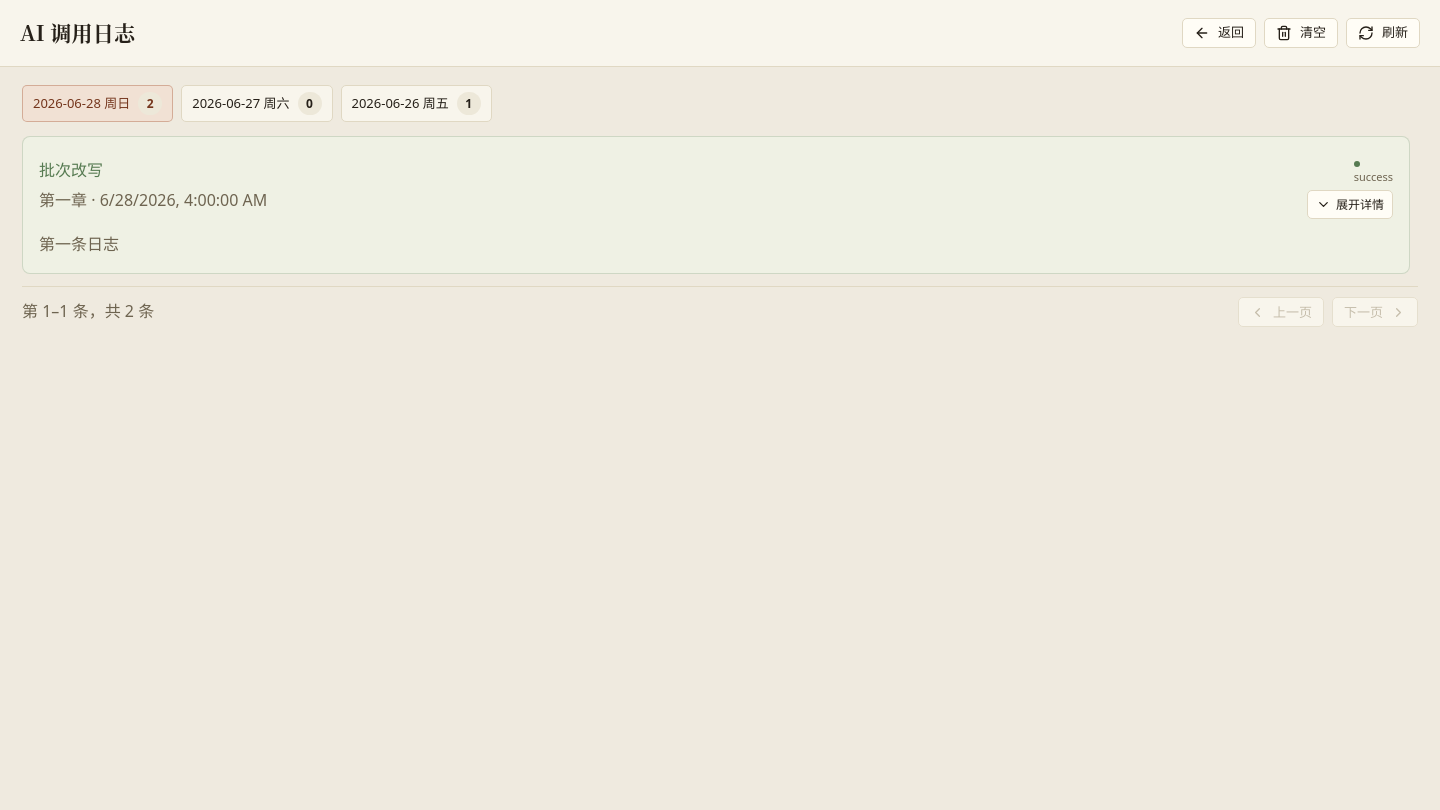
LogsPage › keeps large log details collapsed until requested
Expected: the text "原始响应" is not shown
Click the button "展开详情" at [1350, 204], box 1307,190 -> 1393,219
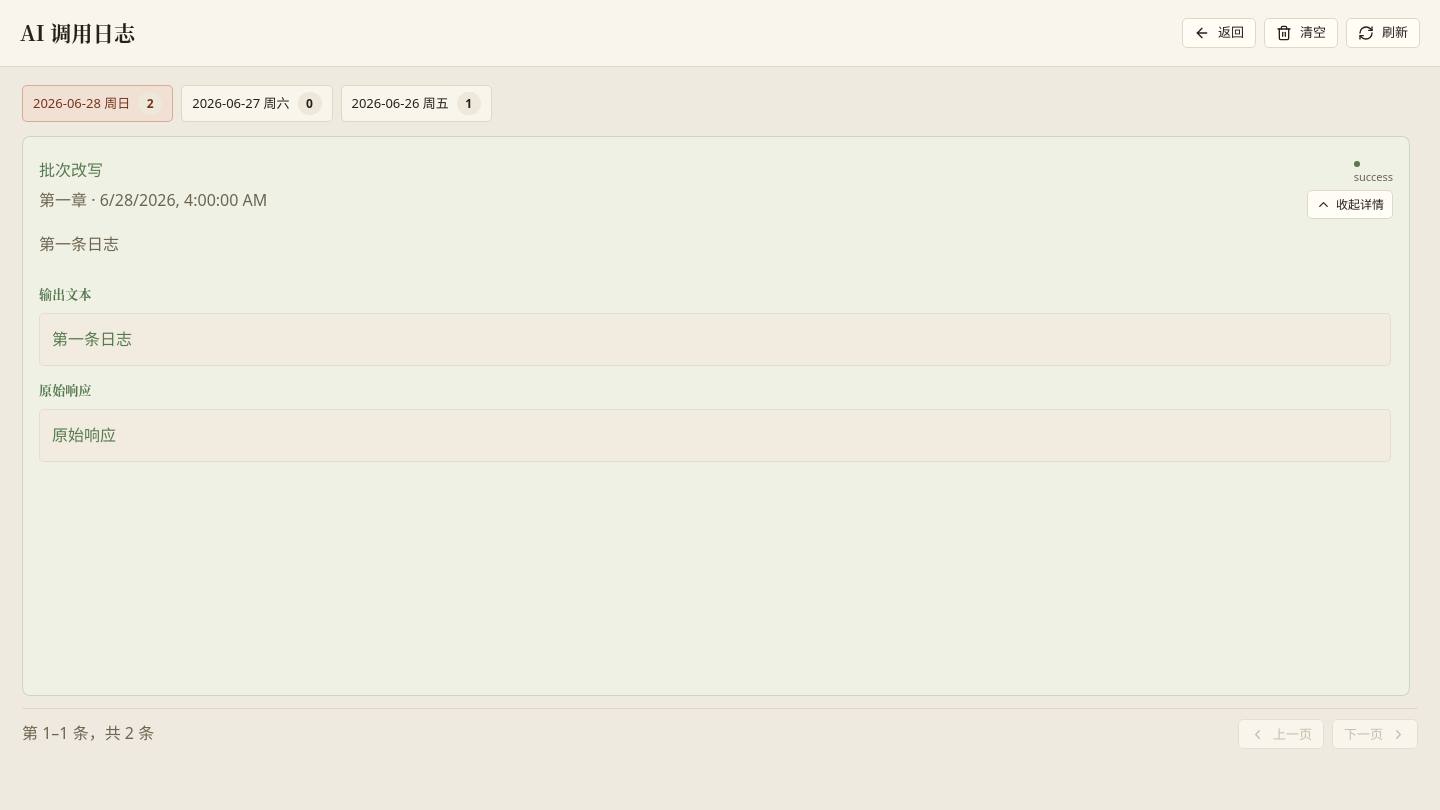
Result: the heading "原始响应" is shown at 39,380 -> 92,399
Result: the heading "输出文本" is shown at 39,284 -> 92,303
Result: the button "收起详情" is expanded at 1307,190 -> 1393,219
